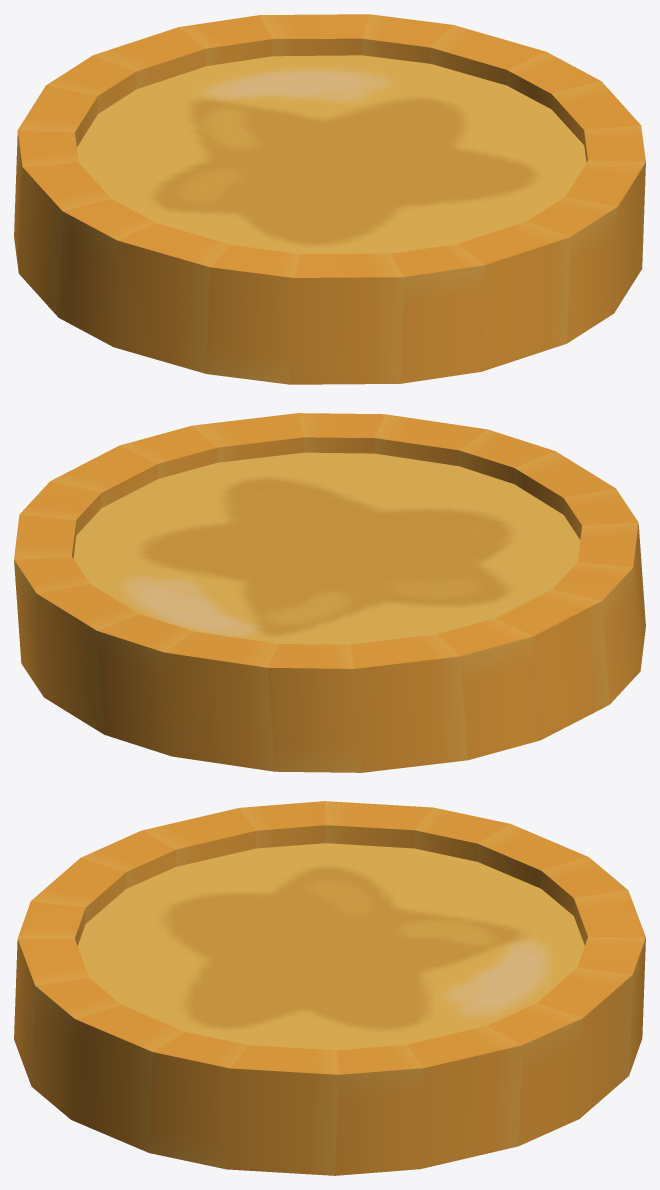
Rendered from Badge.fbx.
The picture shows the model from 3 angles, top to bottom: view 1: azimuth 30°, elevation 25°; view 2: azimuth 150°, elevation 25°; view 3: azimuth 270°, elevation 25°; orthographic projection.
Visible parts, largest first — view 1: Badge; view 2: Badge; view 3: Badge.
Boxes of the visible parts, x1,y1,x2,y2 form: Badge: [14, 14, 645, 384]; Badge: [14, 413, 645, 772]; Badge: [14, 801, 645, 1175].
Bounding box in the file's own units: 447 × 88.28 × 445.
